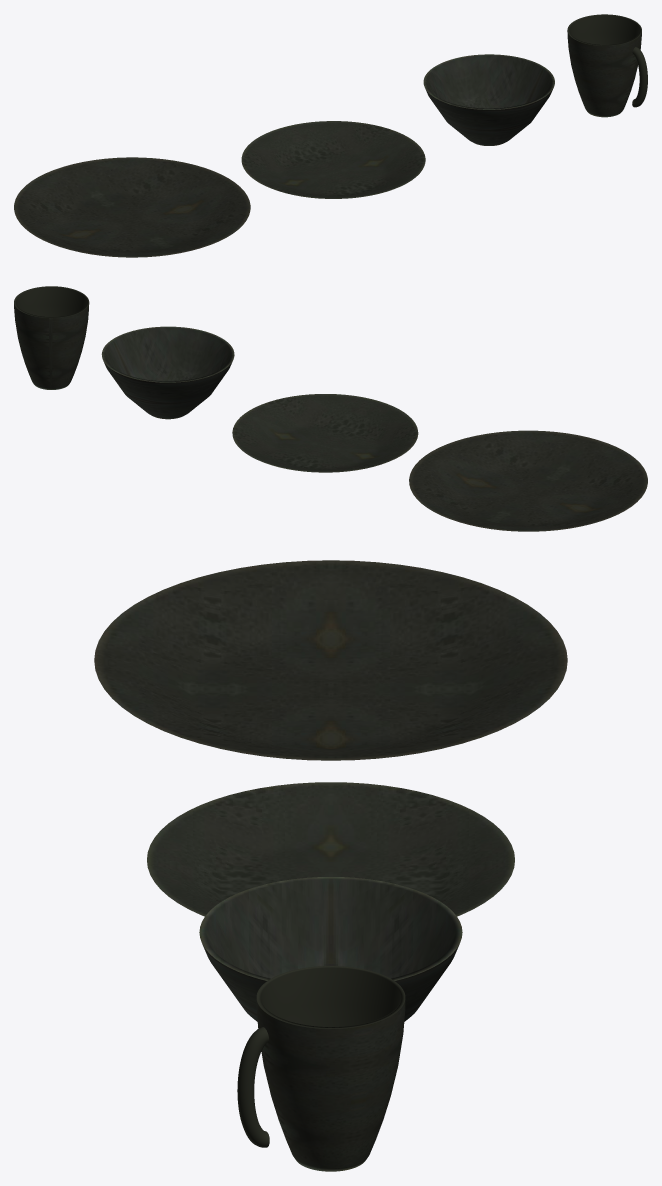
3 renders of one model, top to bottom at view 1: azimuth 30°, elevation 25°; view 2: azimuth 150°, elevation 25°; view 3: azimuth 270°, elevation 25°, orthographic. The views are drawn at different scales.
Size of the model in its own units: 0.7995 by 0.1 by 0.27.
Materials: 9 (7 with a texture image).
